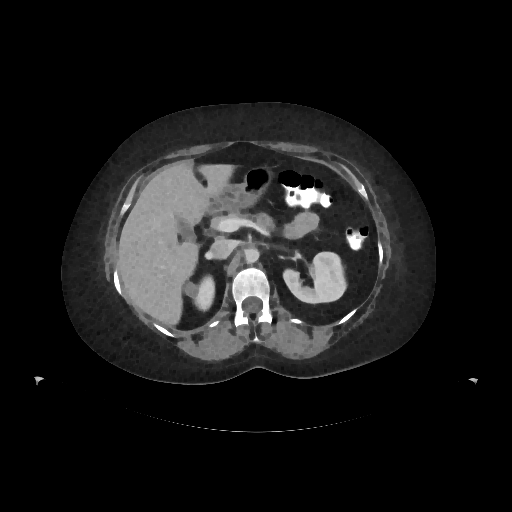Lesion: (181, 280, 199, 303)
